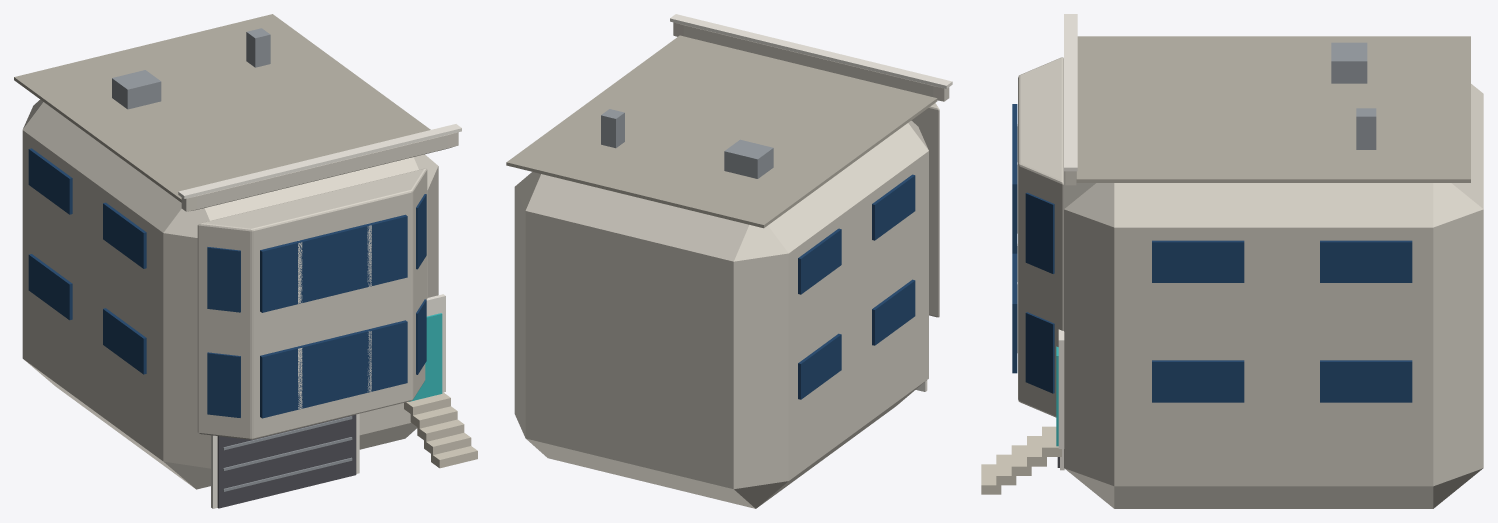
The model's file is rich_w9_plain.glb.
3 views of the same model, side by side, from view 1: azimuth 30°, elevation 25°; view 2: azimuth 150°, elevation 25°; view 3: azimuth 270°, elevation 25° (orthographic). The views are drawn at different scales.
Parts seen in each view (by area): view 1: walls, roofslab, bay, bw, bw.001, gdoor, pp, pcap, bwa, bwa.002, sb.006, sb.002 (+14 smaller); view 2: walls, roofslab, pp, pcap, bay, sb, sb.002, sb.004, sb.006, hvac, pipe; view 3: walls, roofslab, bay, sb.001, sb.003, sb.005, sb.007, pcap, bwa.001, bwa.003, hvac, bw.001 (+4 smaller).
Boxes of the visible parts, x1,y1,x2,y2 form: walls: (22,99,438,489); roofslab: (14,14,430,202); bay: (197,168,427,439); bw: (260,320,407,418); bw.001: (260,214,407,312); gdoor: (217,414,356,508); pp: (181,132,458,211); pcap: (178,124,461,198); bwa: (207,352,240,417); bwa.002: (207,247,240,312); sb.006: (28,148,72,214); sb.002: (28,254,72,320); walls: (514,120,928,508); roofslab: (506,35,937,228); pp: (673,22,949,101); pcap: (670,14,952,88); bay: (911,103,939,317); sb: (872,279,915,345); sb.002: (798,333,841,399); sb.004: (872,174,915,240); sb.006: (798,228,841,294); hvac: (724,139,773,178); pipe: (601,109,624,148); walls: (1064,84,1483,508); roofslab: (1076,36,1470,182); bay: (1018,57,1063,417); sb.001: (1152,360,1244,402); sb.003: (1320,360,1412,402); sb.005: (1152,240,1244,282); sb.007: (1320,240,1412,282); pcap: (1064,14,1077,171); bwa.001: (1025,312,1054,393); bwa.003: (1025,192,1054,273); hvac: (1331,42,1367,83); bw.001: (1012,104,1017,253).
Size of the model in its own units: 9.2 by 10.4 by 12.57.
